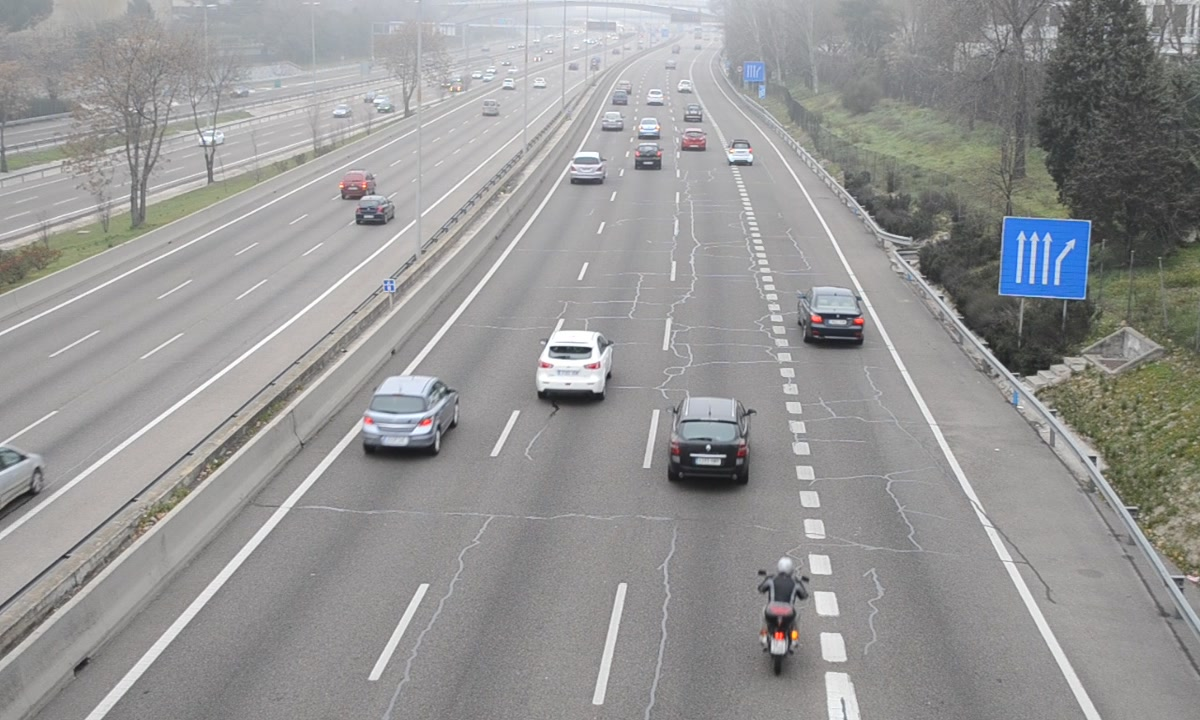car: (669, 396, 750, 489), (362, 376, 458, 452), (540, 330, 615, 401), (799, 286, 866, 346), (569, 151, 607, 185), (726, 137, 754, 167), (635, 141, 663, 169), (681, 128, 709, 153), (637, 116, 662, 141)
motorcycle: (753, 558, 812, 671)
